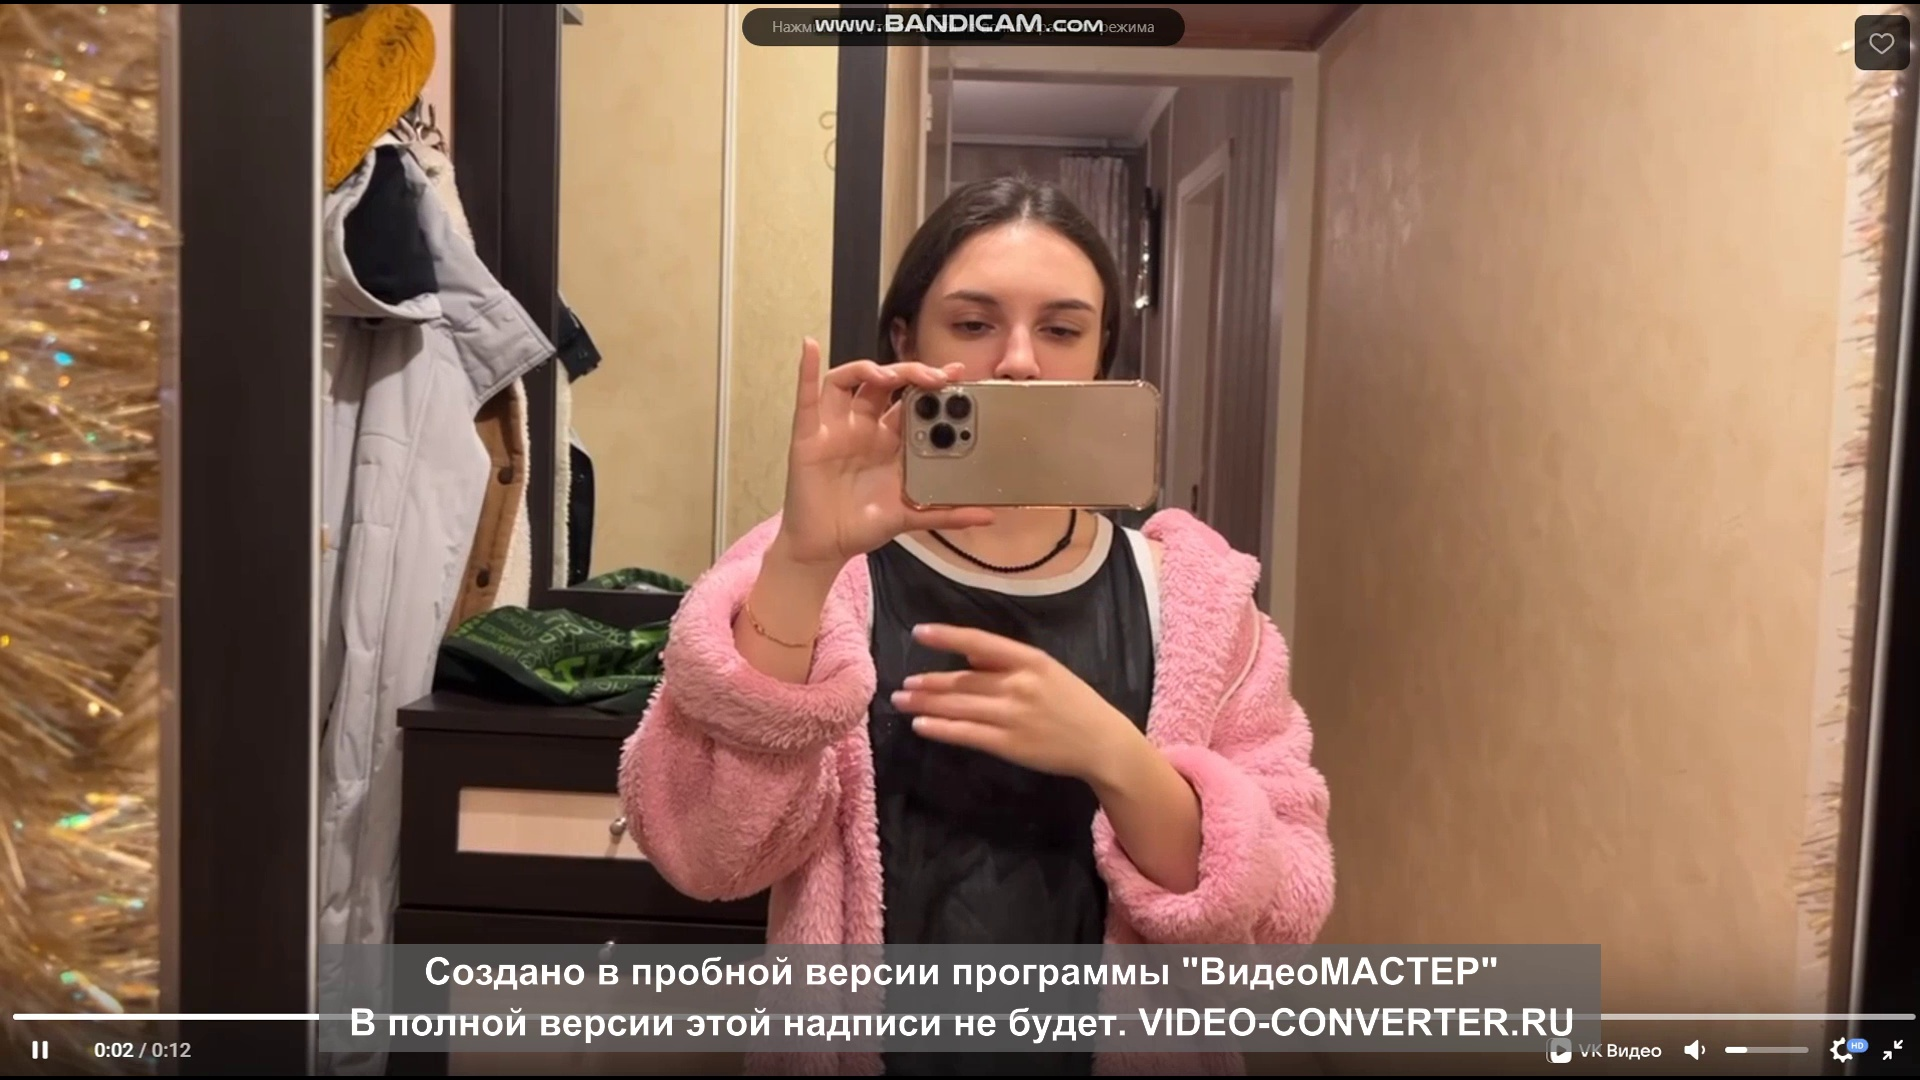Кисть: (884, 609, 1114, 806)
